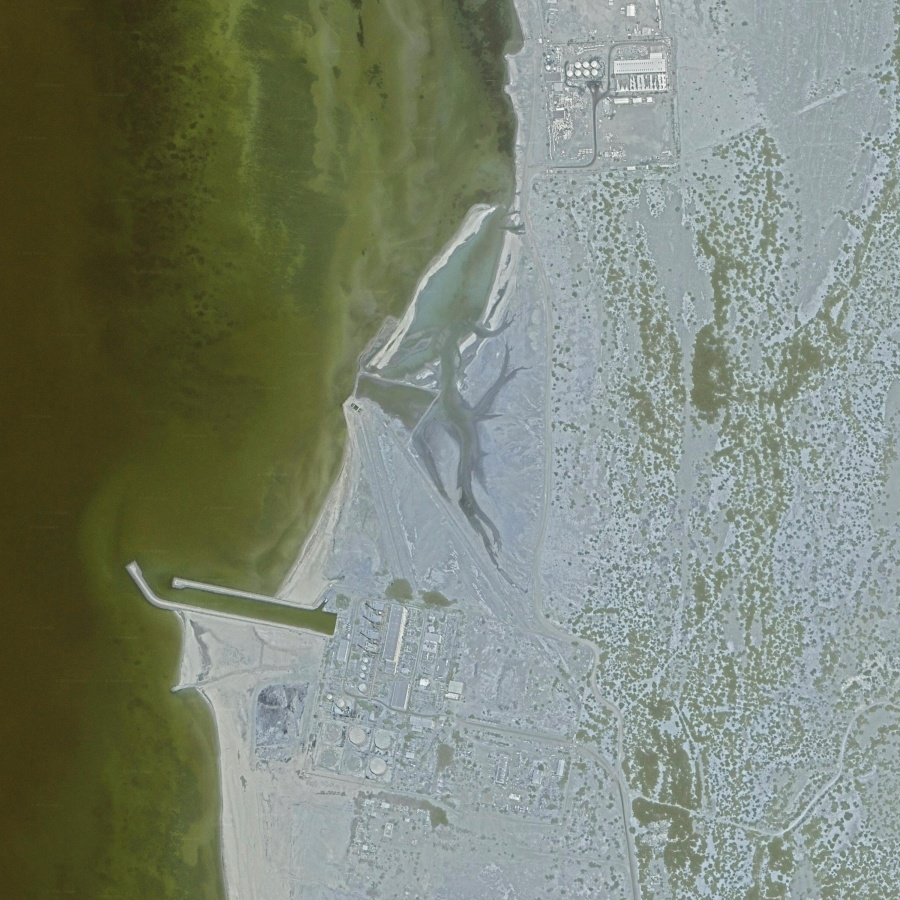PowerPlant: (244, 590, 472, 793)
